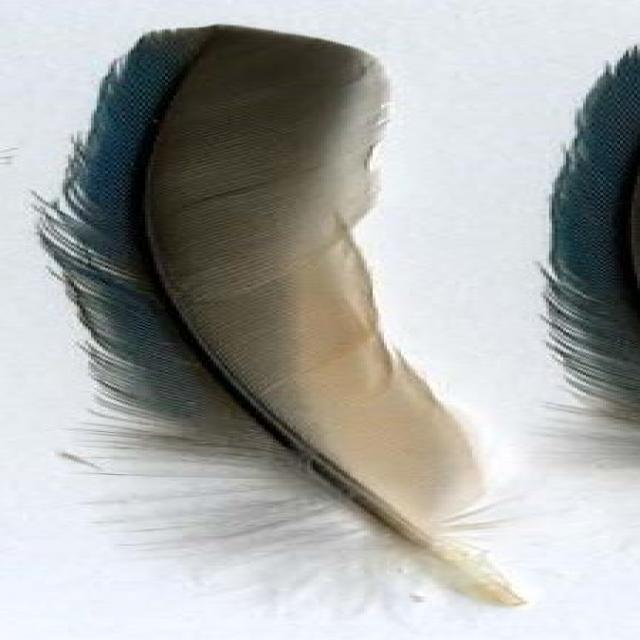feather: (44, 22, 548, 622)
